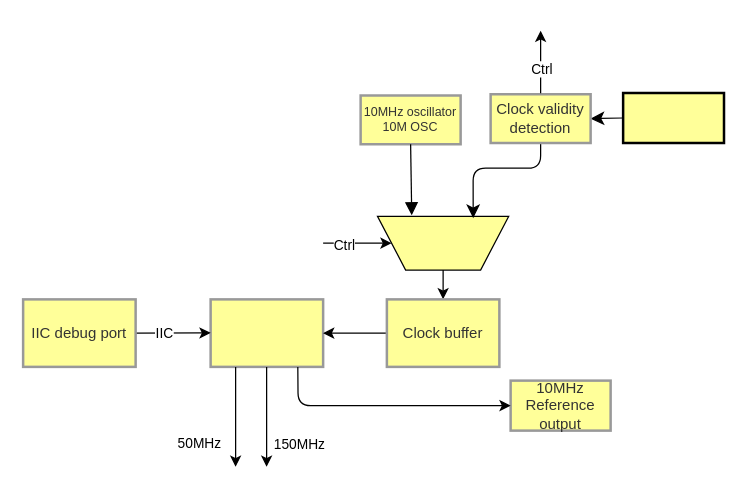
Some shapes in this 746 by 499 pixel diagram are drawn without their labels. Here are the shapes that lost their labels. From the top down, the box of each, then its label:
(621, 91, 725, 144): 10MHz External input
(376, 215, 509, 270): RF relay
(209, 298, 324, 368): CDCI6214 Clock generator
